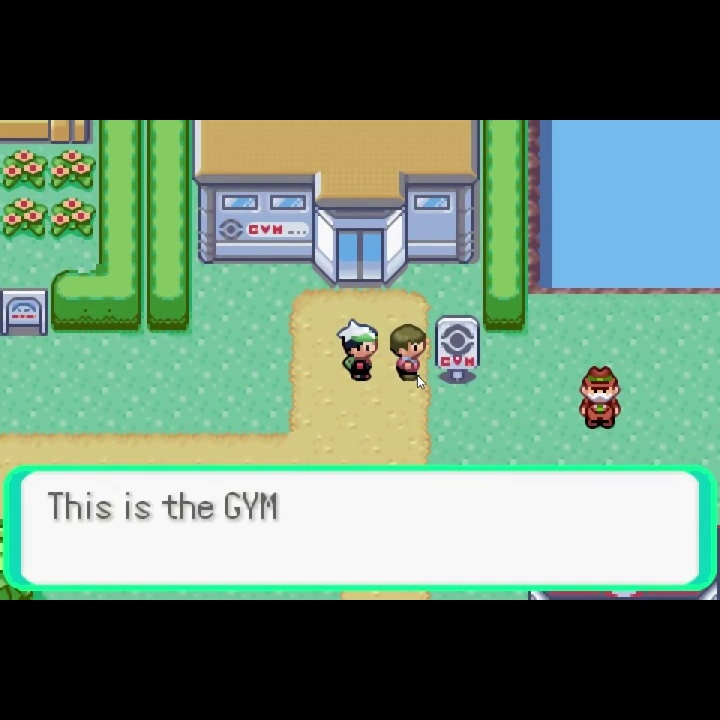gym: (193, 121, 484, 290)
npc: (575, 361, 624, 435), (335, 316, 380, 385), (387, 320, 426, 386)
